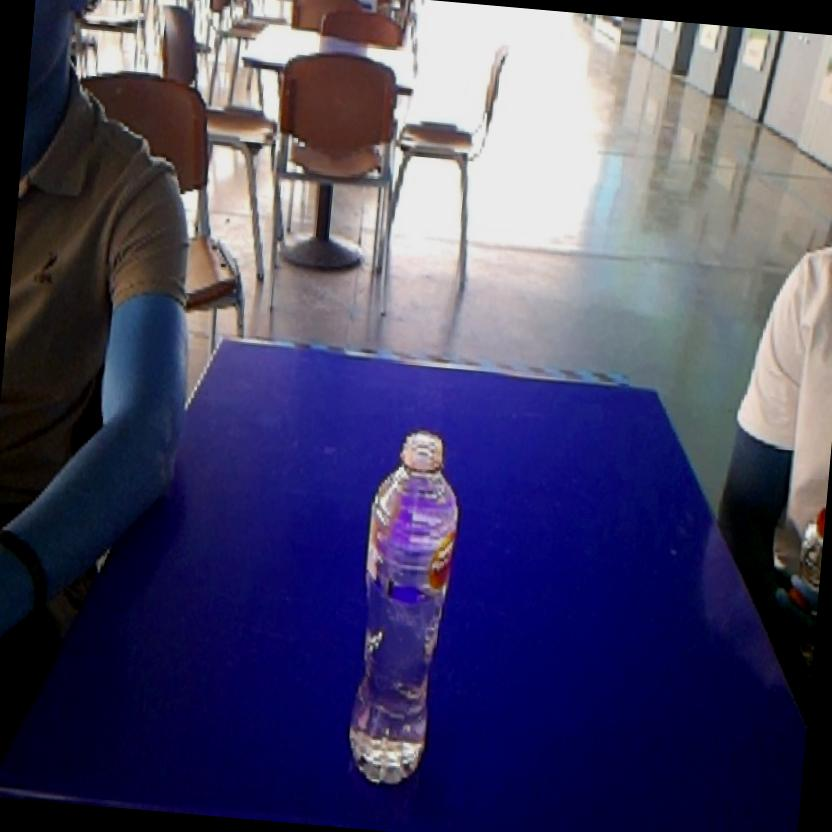no_cap: (334, 408, 472, 796)
